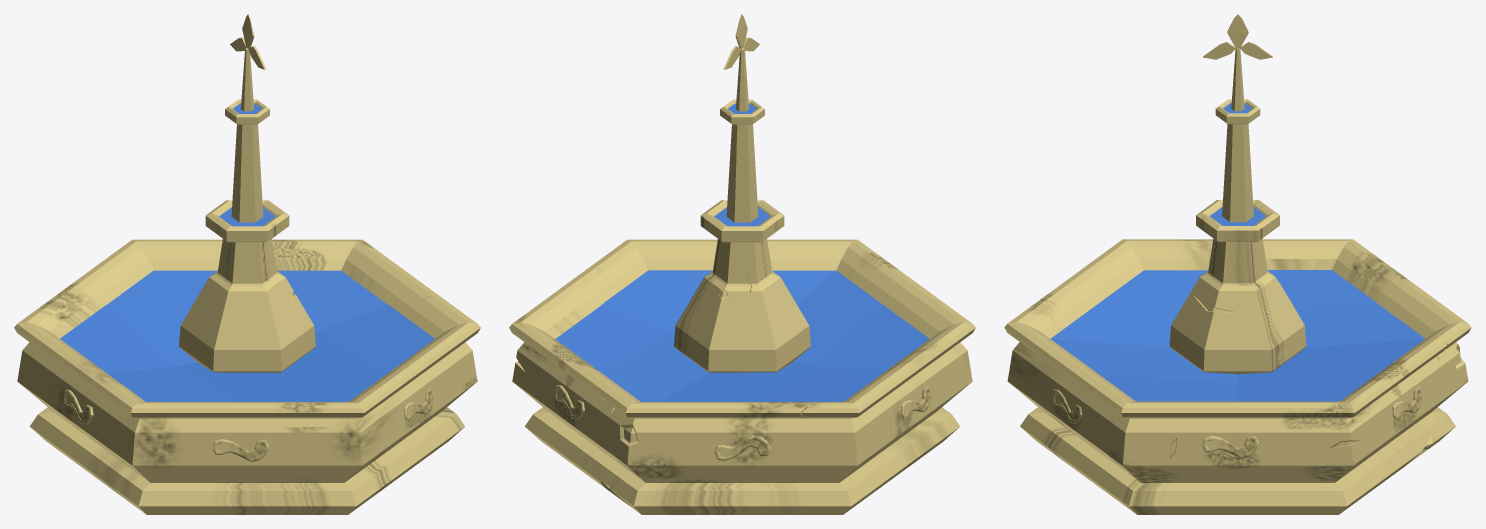
The model's file is lafontaine.fbx.
The picture shows the model from 3 angles, left to right: view 1: azimuth 30°, elevation 25°; view 2: azimuth 150°, elevation 25°; view 3: azimuth 270°, elevation 25°; orthographic projection.
Parts seen in each view (by area): view 1: Cylinder, Cylinder.003; view 2: Cylinder, Cylinder.003; view 3: Cylinder, Cylinder.003.
Boxes of the visible parts, x1,y1,x2,y2 form: Cylinder: [14, 14, 480, 514]; Cylinder.003: [60, 103, 434, 401]; Cylinder: [509, 14, 975, 514]; Cylinder.003: [555, 103, 929, 401]; Cylinder: [1004, 14, 1471, 514]; Cylinder.003: [1050, 103, 1425, 401].
Size of the model in its own units: 204 by 237 by 235.
